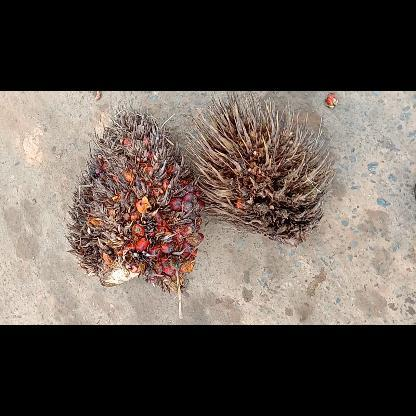Janjang kosong: (184, 90, 336, 244)
Terlalu masak: (65, 101, 205, 319)
